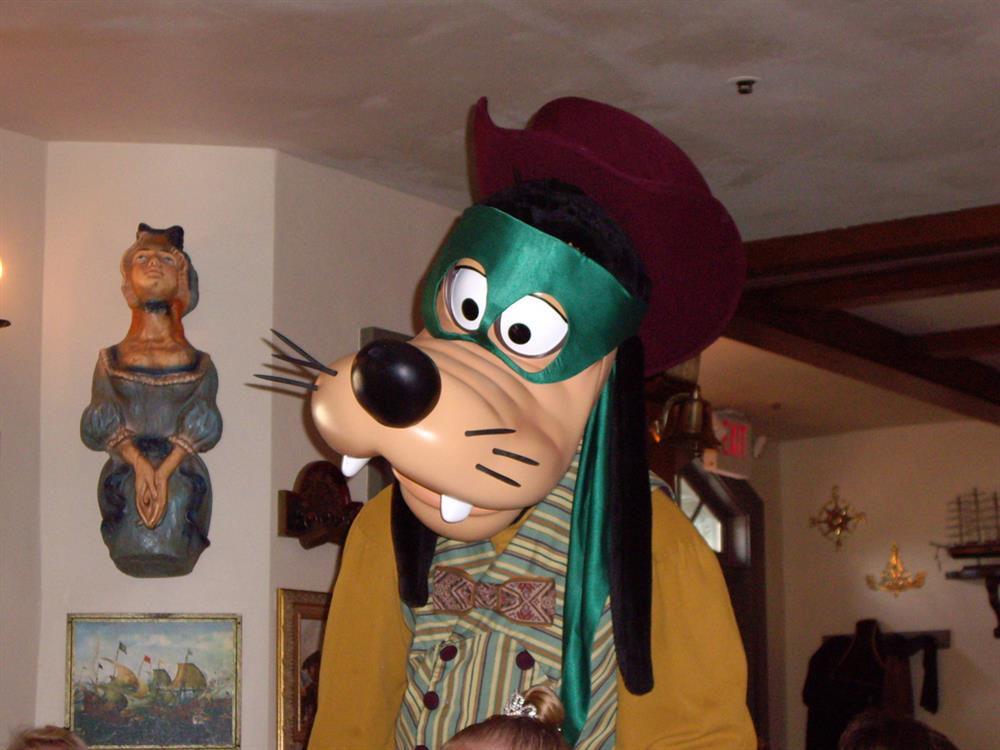Goofy: (293, 153, 676, 546)
